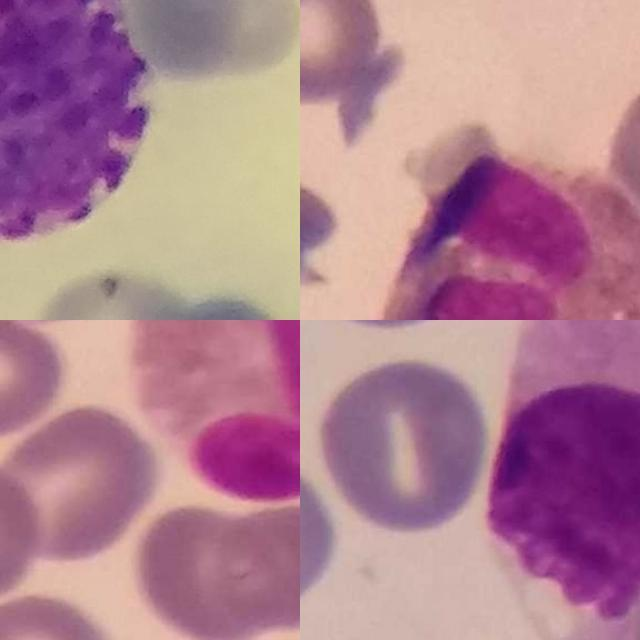Basophil: (0, 0, 154, 240)
Eosinophil: (381, 153, 640, 320), (131, 320, 300, 501)
Monocyte: (484, 320, 640, 640)
